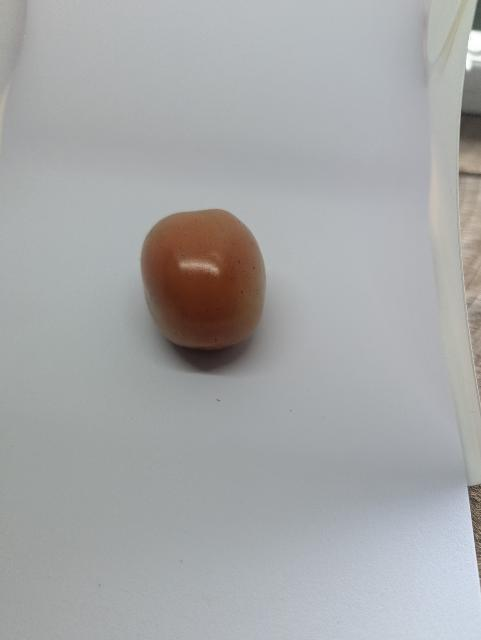red: (129, 205, 289, 375)
